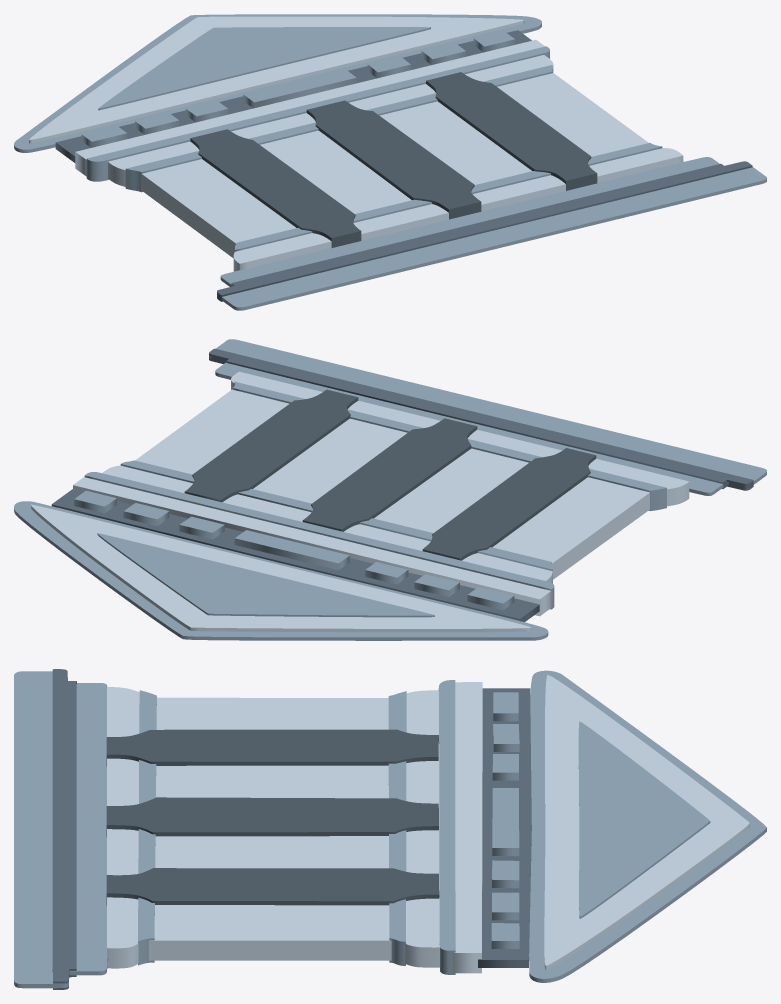
Rendered from emoji_u1f3db.glb.
3 renders of one model, top to bottom at view 1: azimuth 30°, elevation 25°; view 2: azimuth 150°, elevation 25°; view 3: azimuth 270°, elevation 25°, orthographic. The views are drawn at different scales.
Visible parts, largest first — view 1: emoji_u1f3db; view 2: emoji_u1f3db; view 3: emoji_u1f3db.
Boxes of the visible parts, x1,y1,x2,y2 form: emoji_u1f3db: [14, 14, 766, 310]; emoji_u1f3db: [14, 339, 766, 640]; emoji_u1f3db: [14, 669, 766, 989].
Bounding box in the file's own units: 0.0333 × 0.0014 × 0.0338.
